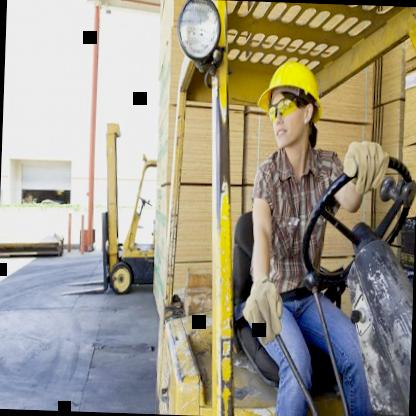helmet: (256, 47, 328, 167)
